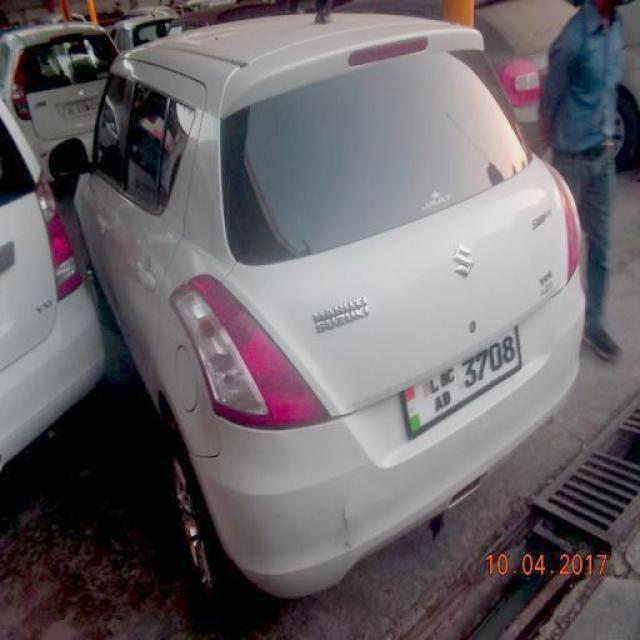car damage: (335, 496, 352, 548)
